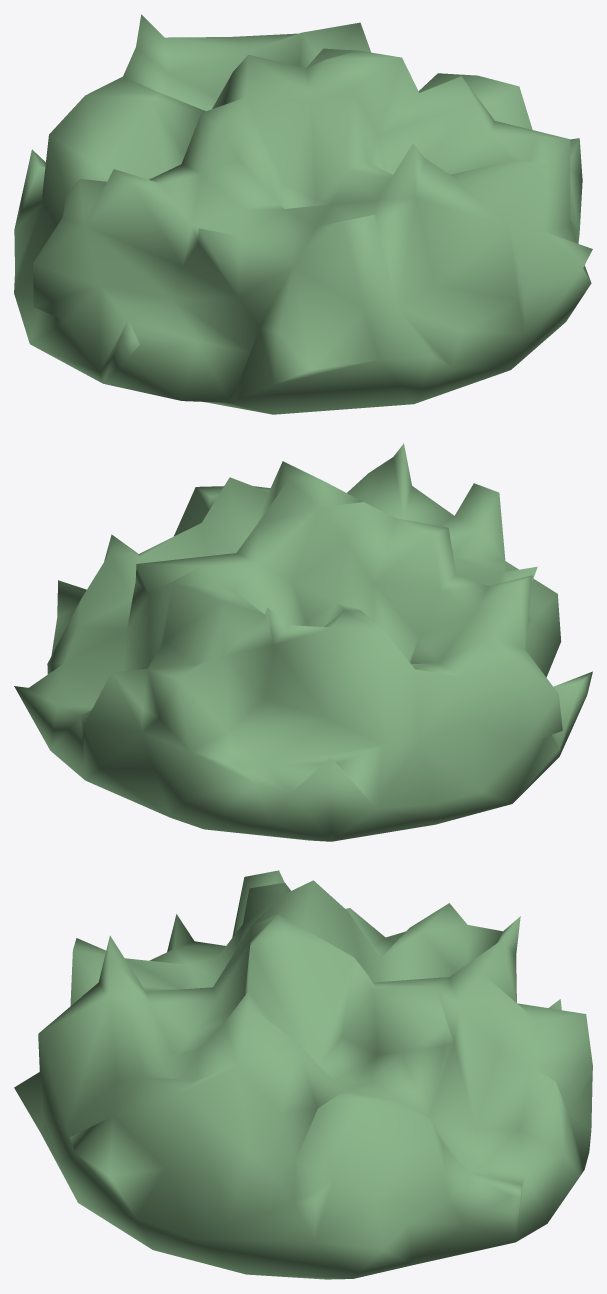
3 views of the same model, one above another, from view 1: azimuth 30°, elevation 25°; view 2: azimuth 150°, elevation 25°; view 3: azimuth 270°, elevation 25° (orthographic). The views are drawn at different scales.
Visible parts, largest first — view 1: 넓은 잎 풀 포기; view 2: 넓은 잎 풀 포기; view 3: 넓은 잎 풀 포기.
Part boxes in pixels (left/top/right/bottom): 넓은 잎 풀 포기: left=14, top=14, right=592, bottom=414; 넓은 잎 풀 포기: left=14, top=443, right=592, bottom=841; 넓은 잎 풀 포기: left=14, top=870, right=592, bottom=1279.
Size of the model in its own units: 0.6566 by 0.319 by 0.6126.
Materials: 1 (1 with a texture image).
